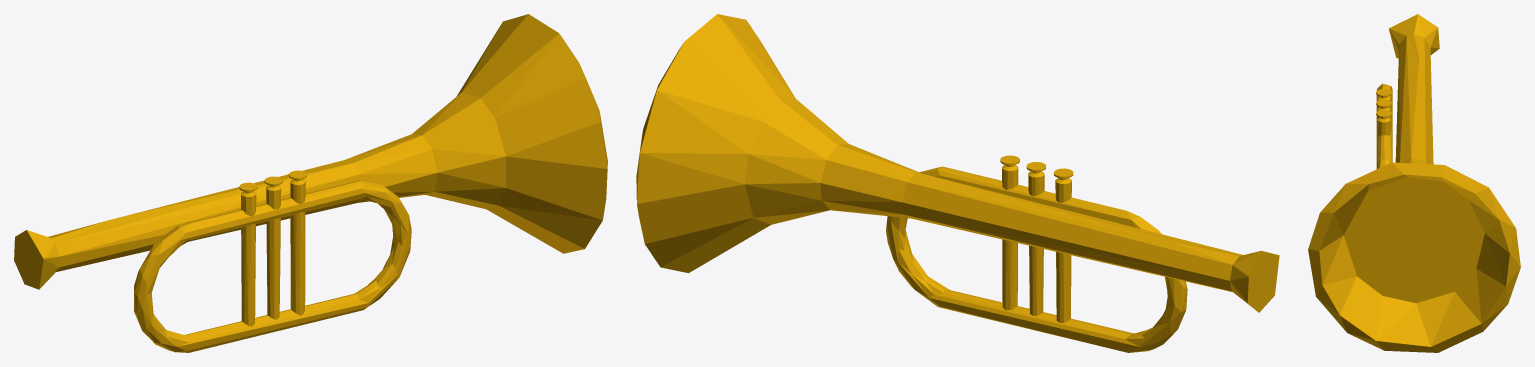
Rendered from Horn.fbx.
3 views of the same model, side by side, from view 1: azimuth 30°, elevation 25°; view 2: azimuth 150°, elevation 25°; view 3: azimuth 270°, elevation 25° (orthographic). The views are drawn at different scales.
Parts seen in each view (by area): view 1: Cylinder, Torus, Cylinder.001, Cylinder.003, Cylinder.002; view 2: Cylinder, Torus, Cylinder.001, Cylinder.003, Cylinder.002; view 3: Cylinder, Torus, Cylinder.001.
Boxes of the visible parts, <box> form: Cylinder: <box>14,14,607,289</box>; Torus: <box>134,180,411,352</box>; Cylinder.001: <box>288,170,306,315</box>; Cylinder.003: <box>239,182,257,326</box>; Cylinder.002: <box>264,176,282,319</box>; Cylinder: <box>636,14,1279,312</box>; Torus: <box>886,166,1187,352</box>; Cylinder.001: <box>1000,155,1019,310</box>; Cylinder.003: <box>1053,168,1073,322</box>; Cylinder.002: <box>1026,162,1046,315</box>; Cylinder: <box>1308,14,1520,352</box>; Torus: <box>1376,83,1392,168</box>; Cylinder.001: <box>1376,109,1391,136</box>.
Size of the model in its own units: 965 by 394 by 392.
